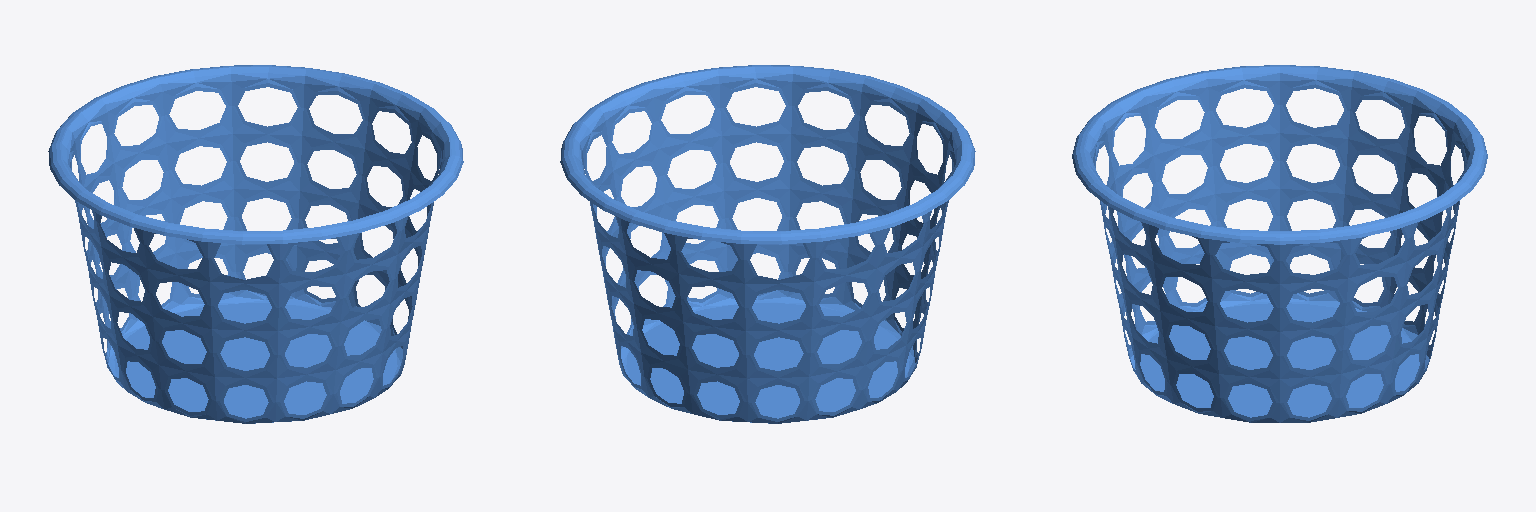
The model's file is Basket-hi.obj.
3 views of the same model, side by side, from view 1: azimuth 30°, elevation 25°; view 2: azimuth 150°, elevation 25°; view 3: azimuth 270°, elevation 25° (orthographic).
Parts seen in each view (by area): view 1: Shape1; view 2: Shape1; view 3: Shape1.
Part boxes in pixels (x1,y1,x2,y2): Shape1: (48, 65, 463, 423); Shape1: (560, 65, 975, 423); Shape1: (1072, 65, 1487, 422).
Size of the model in its own units: 4.33 by 2.46 by 4.33.